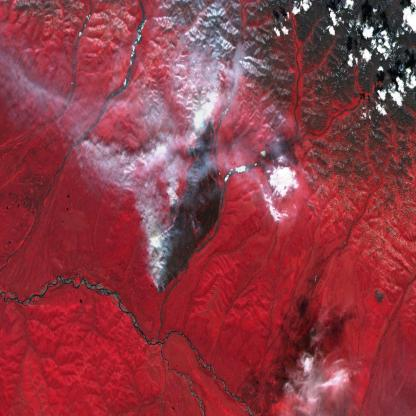fire: (149, 193, 182, 296), (185, 112, 219, 162)
